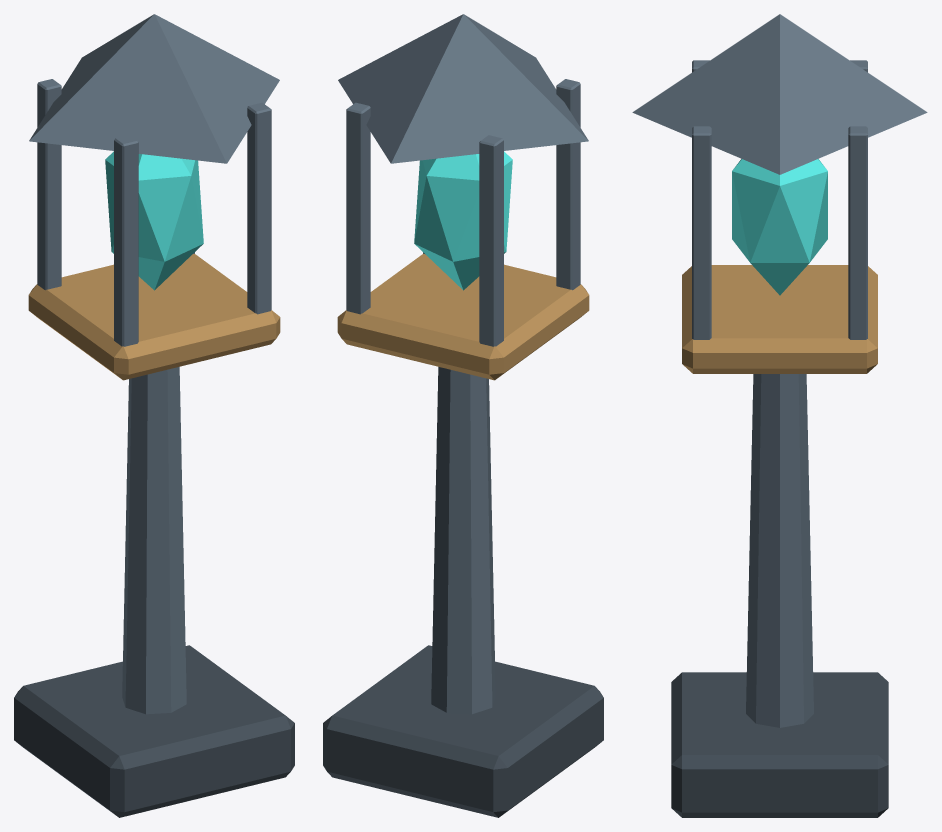
File: L01R_SoulLantern.fbx
3 views of the same model, side by side, from view 1: azimuth 30°, elevation 25°; view 2: azimuth 150°, elevation 25°; view 3: azimuth 270°, elevation 25° (orthographic).
Parts seen in each view (by area): view 1: L01R_SoulLantern; view 2: L01R_SoulLantern; view 3: L01R_SoulLantern.
Boxes of the visible parts, bbox=[...] form: L01R_SoulLantern: bbox=[14, 14, 294, 817]; L01R_SoulLantern: bbox=[323, 14, 603, 817]; L01R_SoulLantern: bbox=[632, 14, 927, 817].
Size of the model in its own units: 68 by 193 by 68.
